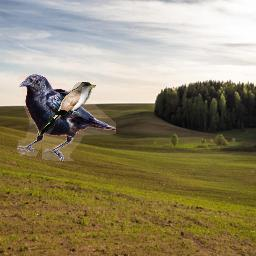Crow: (17, 74, 116, 161)
Cuckoo: (38, 82, 96, 136)
